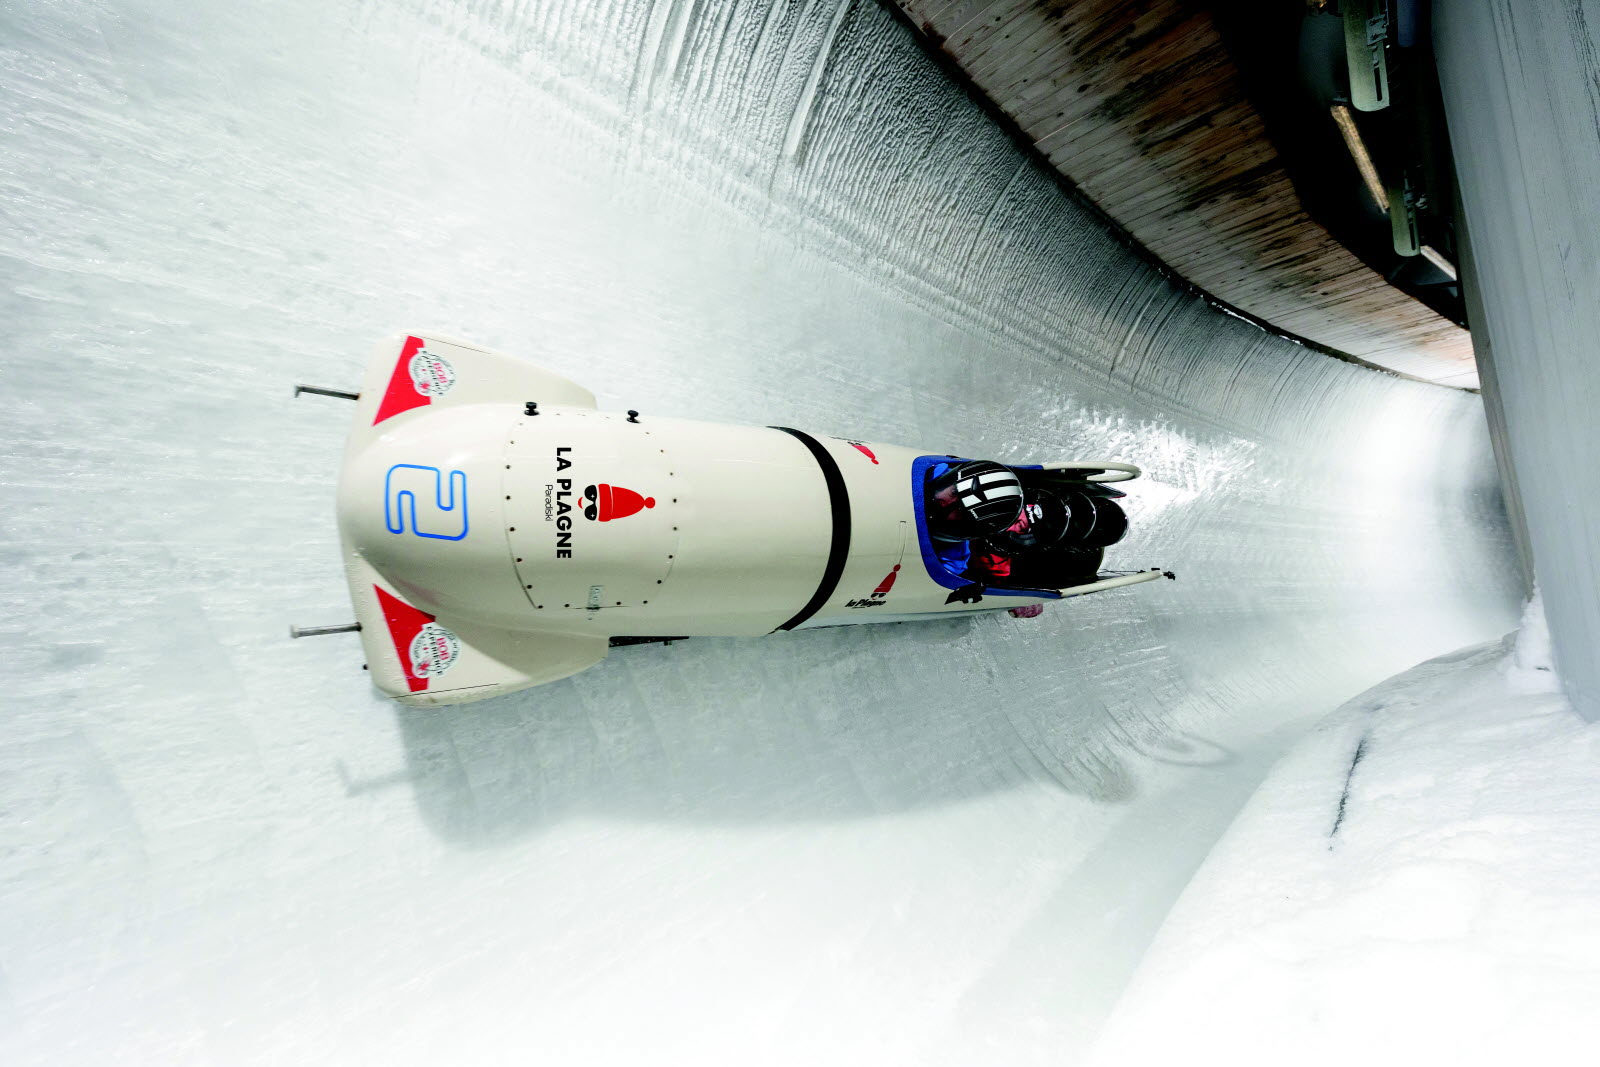Bobsleigh: (335, 332, 1170, 698)
